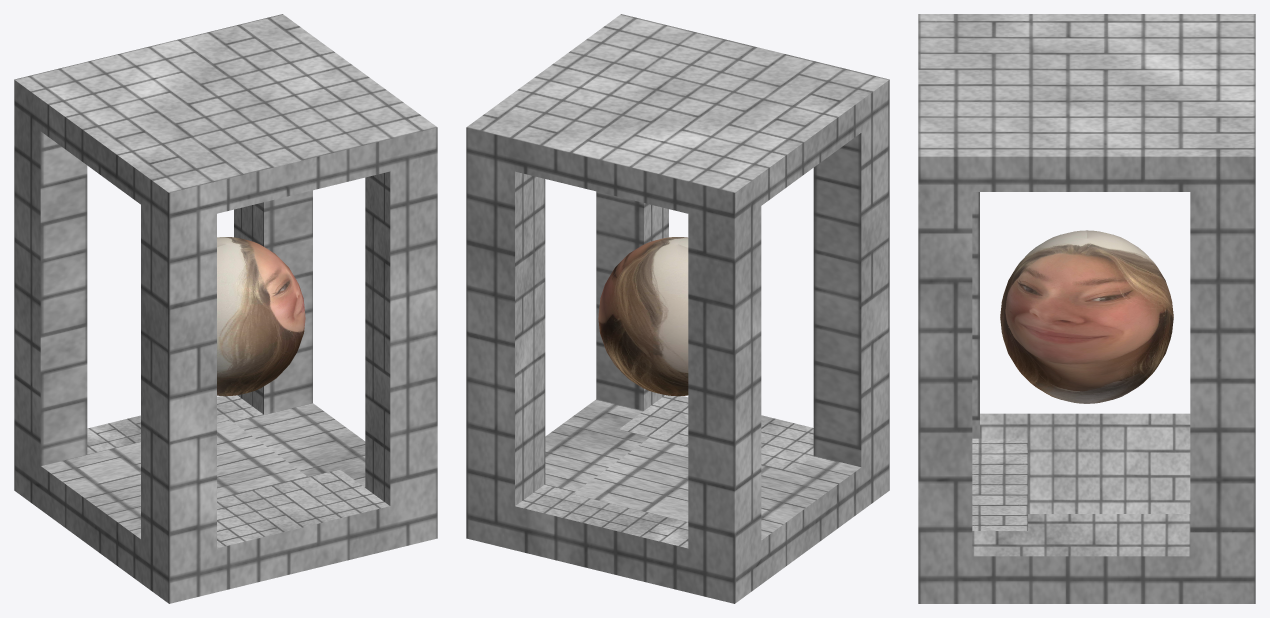
The model's file is fina2l.glb.
3 views of the same model, side by side, from view 1: azimuth 30°, elevation 25°; view 2: azimuth 150°, elevation 25°; view 3: azimuth 270°, elevation 25° (orthographic). The views are drawn at different scales.
Visible parts, largest first — view 1: Cube, Sphere; view 2: Cube, Sphere; view 3: Cube, Sphere.
Boxes of the visible parts, x1,y1,x2,y2 form: Cube: [14, 14, 437, 603]; Sphere: [217, 237, 305, 396]; Cube: [466, 14, 889, 603]; Sphere: [598, 237, 688, 396]; Cube: [918, 14, 1255, 603]; Sphere: [1000, 230, 1173, 403].
Bounding box in the file's own units: 3.89 × 5.68 × 3.89.
Materials: 2 (2 with a texture image).
